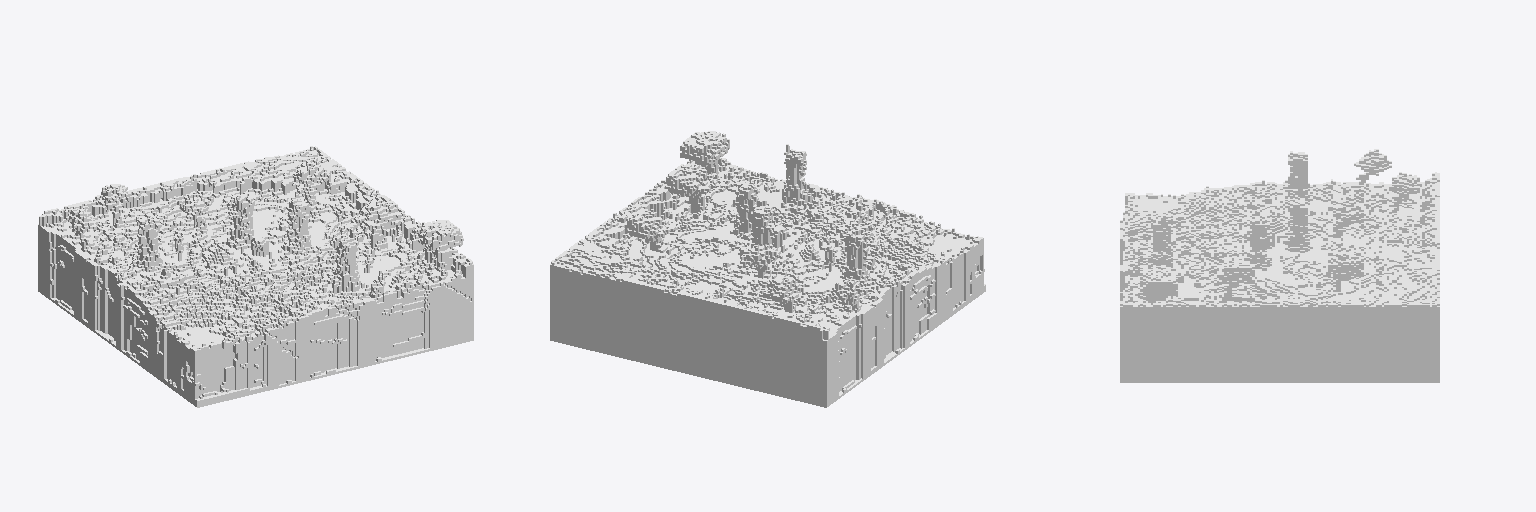
File: nomads.obj
3 renders of one model, left to right at view 1: azimuth 30°, elevation 25°; view 2: azimuth 150°, elevation 25°; view 3: azimuth 270°, elevation 25°, orthographic.
Visible parts, largest first — view 1: nomads; view 2: nomads; view 3: nomads.
Part boxes in pixels (bbox=[...]): nomads: bbox=[38, 146, 473, 407]; nomads: bbox=[550, 131, 985, 407]; nomads: bbox=[1120, 149, 1439, 382].
Size of the model in its own units: 126 by 52 by 126.